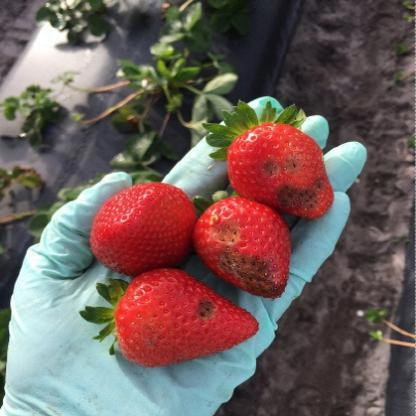Strawberry_Anthracnose_Fruit_Rot: (206, 212, 288, 299), (257, 152, 330, 214), (191, 294, 222, 324)
